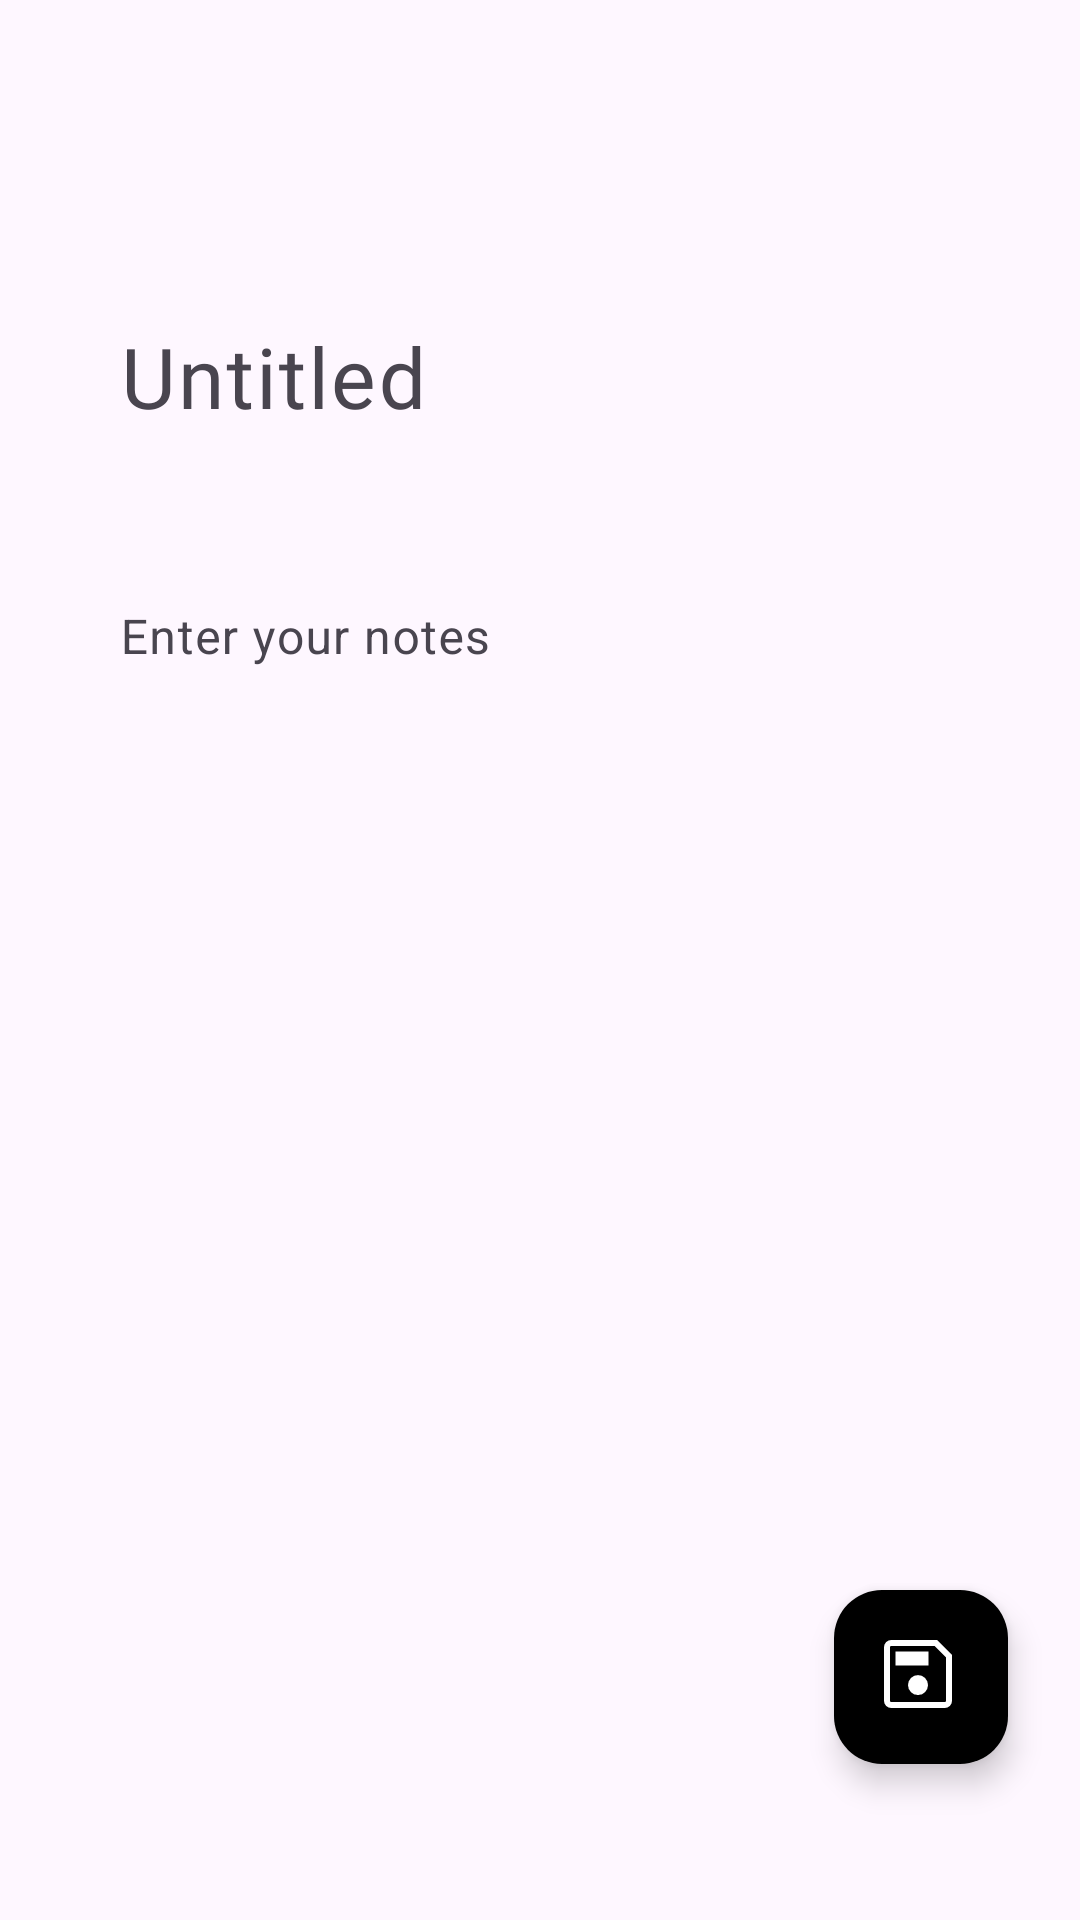

Where to tap for icons on this 1080×1920 app screen, as (x=x, y=y):
save: (x=921, y=1677)
